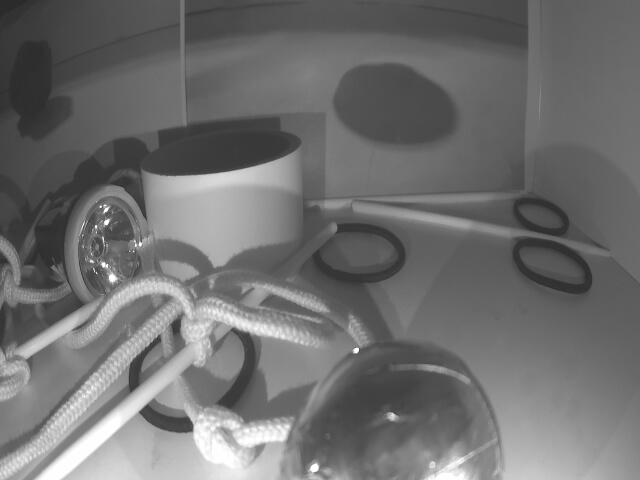Live: (276, 341, 500, 480)
